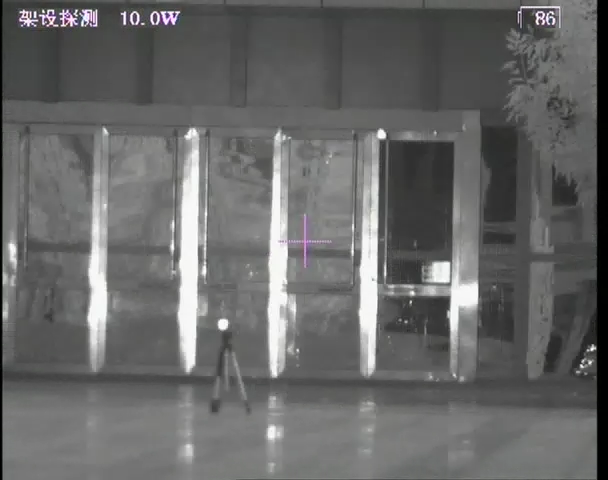my: (216, 317, 229, 332)
